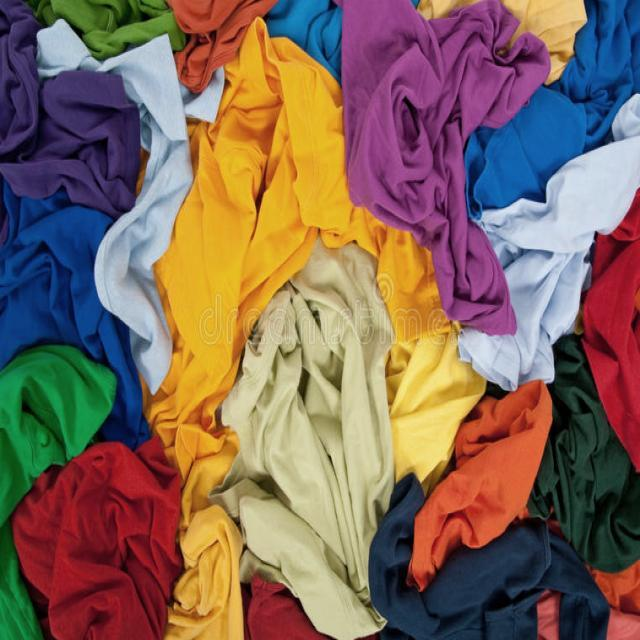clothes: (36, 40, 507, 542)
